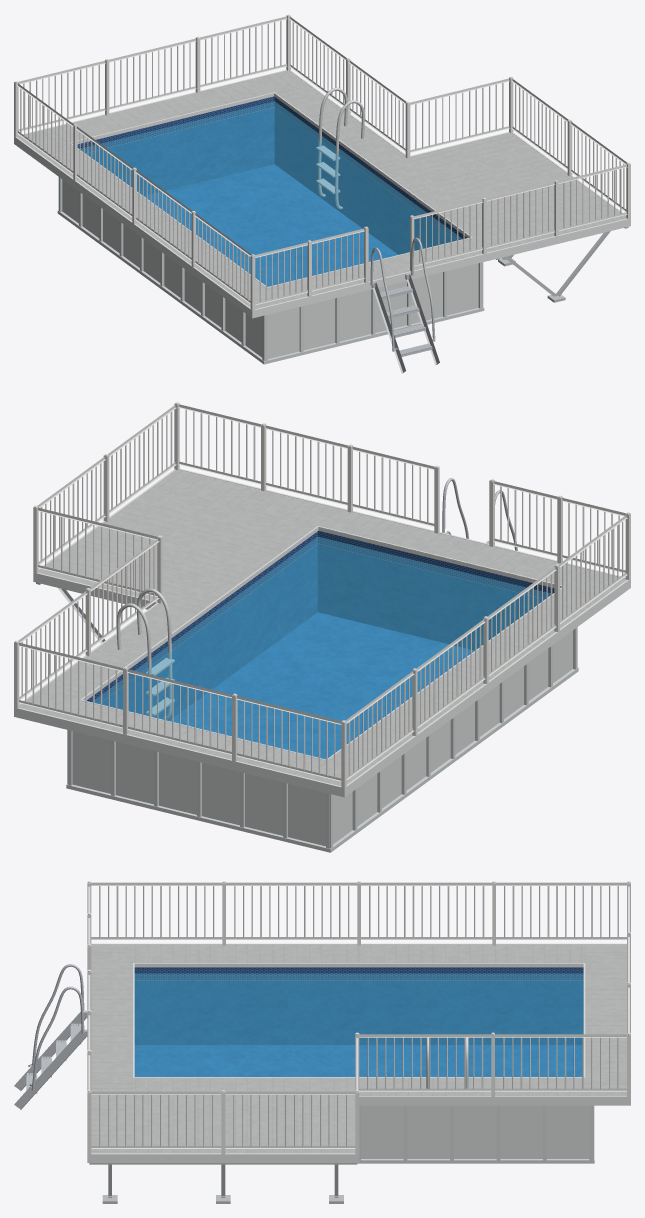
File: kayak-pool-12x20-white-l-ag-fence.5849b5ca6c.glb
3 views of the same model, one above another, from view 1: azimuth 30°, elevation 25°; view 2: azimuth 150°, elevation 25°; view 3: azimuth 270°, elevation 25° (orthographic). The views are drawn at different scales.
Parts seen in each view (by area): view 1: water, deck, fence, liner_wall, liner_floor, wall, fascia, upright, ladder, steel, stud; view 2: water, deck, fence, liner_wall, liner_floor, wall, fascia, upright, steel, ladder; view 3: water, deck, liner_wall, fence, liner_floor, wall, fascia, ladder, upright, stud.
Part boxes in pixels (x1=…): water: x1=80, y1=101, x2=462, y2=286; deck: x1=18, y1=70, x2=626, y2=308; fence: x1=14, y1=14, x2=630, y2=310; liner_wall: x1=77, y1=96, x2=466, y2=254; liner_floor: x1=144, y1=164, x2=397, y2=286; wall: x1=62, y1=179, x2=478, y2=358; fascia: x1=14, y1=69, x2=630, y2=318; upright: x1=57, y1=177, x2=484, y2=364; ladder: x1=370, y1=237, x2=439, y2=373; steel: x1=316, y1=87, x2=364, y2=209; stud: x1=496, y1=227, x2=628, y2=302; water: x1=92, y1=537, x2=550, y2=759; deck: x1=19, y1=469, x2=626, y2=786; fence: x1=14, y1=402, x2=630, y2=787; liner_wall: x1=87, y1=530, x2=554, y2=720; liner_floor: x1=169, y1=612, x2=474, y2=759; wall: x1=72, y1=630, x2=572, y2=846; fascia: x1=14, y1=468, x2=630, y2=797; upright: x1=66, y1=627, x2=578, y2=852; steel: x1=116, y1=588, x2=174, y2=719; ladder: x1=442, y1=478, x2=517, y2=550; water: x1=134, y1=973, x2=583, y2=1076; deck: x1=91, y1=944, x2=626, y2=1153; liner_wall: x1=134, y1=967, x2=583, y2=1045; fence: x1=87, y1=881, x2=630, y2=1154; liner_floor: x1=134, y1=1045, x2=582, y2=1076; wall: x1=361, y1=1105, x2=589, y2=1158; fascia: x1=87, y1=943, x2=630, y2=1162; ladder: x1=14, y1=964, x2=87, y2=1109; upright: x1=357, y1=1105, x2=594, y2=1163; stud: x1=89, y1=1163, x2=357, y2=1203.
Bounding box in the file's own units: 6.71 × 2.15 × 8.3.
Materials: 11 (3 with a texture image).
